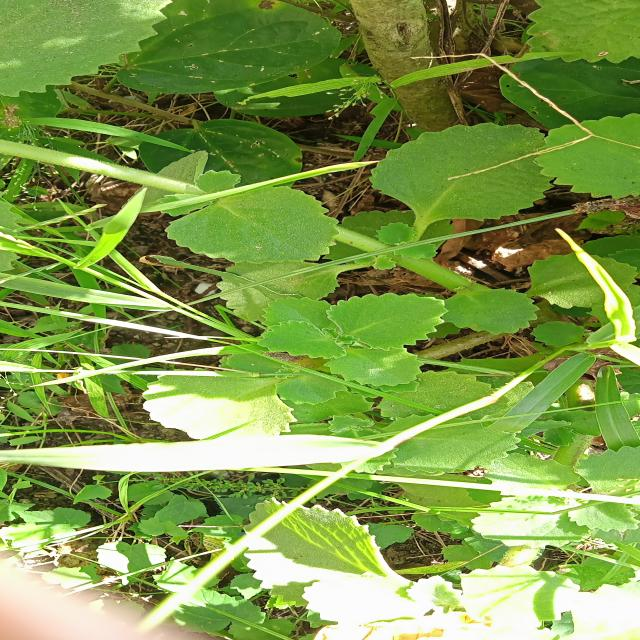Oregano: (196, 196, 442, 396), (374, 121, 578, 232)
